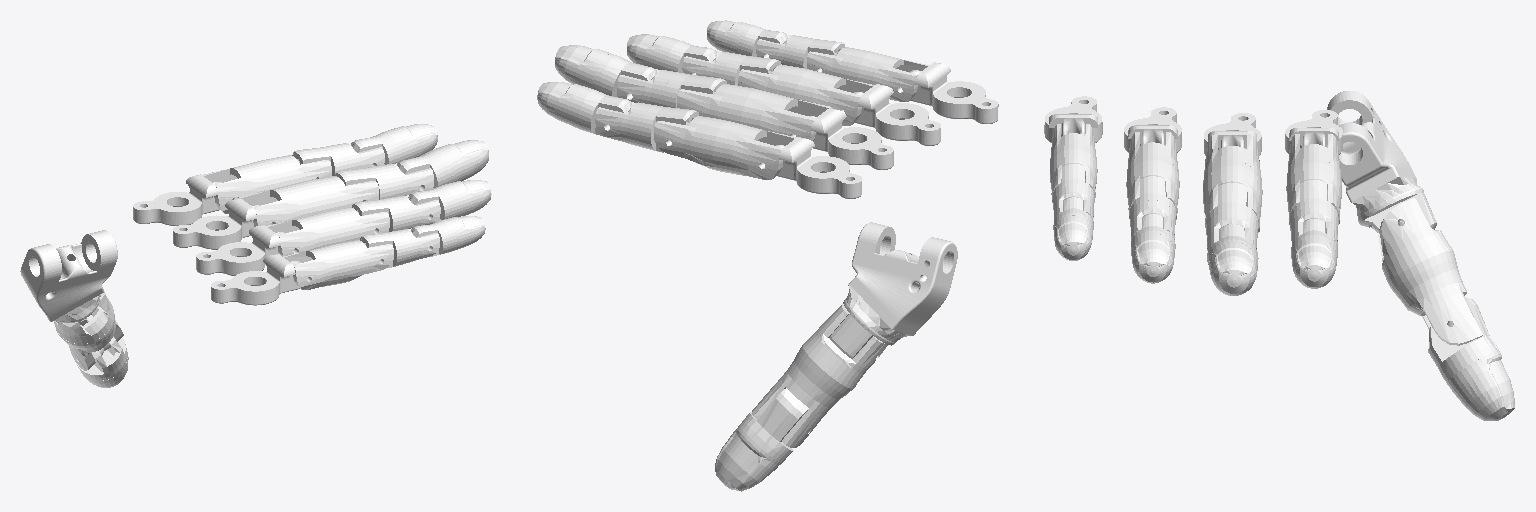
URDF robot description (hek):
<?xml version="1.0"?>
<robot name="hek">

  <link name="world"/>




  <link name="r_palm">
    <visual>
      <origin xyz="0 0 0" rpy="0 0 0"/>
      <geometry>
        <mesh filename="package://cs2r_desc/stl/r_palm.STL"
              scale="0.001 0.001 0.001"
        />
      </geometry>
      <material name="white">
        <color rgba="1 1 1 1"/>
      </material>
    </visual>
  </link>

  <joint name="r_wrist_z" type="revolute">
    <origin xyz="0 0 0" rpy="0 0 0"/>
    <parent link="world"/>
    <child link="r_palm"/>
    <axis xyz="0 0 1"/>
    <limit effort="100" velocity="1.0" lower="-0.65" upper="0.65" />
  </joint>

  <link name="r_thumb_joint">
    <visual>
      <origin xyz="0 0 0" rpy="0 0 0"/>
      <geometry>
        <mesh filename="package://cs2r_desc/stl/r_thumb_joint.STL"
              scale="0.001 0.001 0.001"
        />
      </geometry>
      <material name="white">
        <color rgba="1 1 1 1"/>
      </material>
    </visual>
  </link>

  <joint name="r_thumb_joint_x" type="revolute">
    <origin xyz="0.0417 0.0291 -0.0057" rpy="0 0 0"/>
    <parent link="r_palm"/>
    <child link="r_thumb_joint"/>
    <axis xyz="-1 0 0"/>
    <limit effort="100" velocity="1.0" lower="0.1" upper="2" />
  </joint>

  <link name="r_thumb1">
    <visual>
      <origin xyz="0 0 0" rpy="0 0 0"/>
      <geometry>
        <mesh filename="package://cs2r_desc/stl/Thumb1.STL"
              scale="0.001 0.001 0.001"
        />
      </geometry>
      <material name="white">
        <color rgba="1 1 1 1"/>
      </material>
    </visual>
  </link>

  <joint name="r_thumb" type="revolute">
    <origin xyz="0.0068 0.019 0" rpy="-0.3 0.0 1.06"/>
    <parent link="r_thumb_joint"/>
    <child link="r_thumb1"/>
    <axis xyz="0 1 0"/>
    <limit effort="100" velocity="1.0" lower="0" upper="1.4" />
  </joint>

  <link name="r_thumb2">
    <visual>
      <origin xyz="0 0 0" rpy="0 0 0"/>
      <geometry>
        <mesh filename="package://cs2r_desc/stl/Thumb2.STL"
              scale="0.001 0.001 0.001"
        />
      </geometry>
      <material name="white">
        <color rgba="1 1 1 1"/>
      </material>
    </visual>
  </link>

  <joint name="r_thumb1_2" type="revolute">
    <origin xyz="0.021 0 0" rpy="0 0 0"/>
    <parent link="r_thumb1"/>
    <child link="r_thumb2"/>
    <axis xyz="0 1 0"/>
    <mimic joint="r_thumb" multiplier="1"/>
    <limit effort="100" velocity="1.0" lower="0" upper="1.4" />
  </joint>

  <link name="r_index_finger_joint">
    <visual>
      <origin xyz="0 0 0" rpy="0 0 0"/>
      <geometry>
        <mesh filename="package://cs2r_desc/stl/finger_joint.STL"
              scale="0.001 0.001 0.001"
        />
      </geometry>
      <material name="white">
        <color rgba="1 1 1 1"/>
      </material>
    </visual>
  </link>

  <joint name="r_fingers_z" type="revolute">
    <origin xyz="0.06512 0.0225 0.0051" rpy="0 0 0"/>
    <parent link="r_palm"/>
    <child link="r_index_finger_joint"/>
    <axis xyz="0 0 -1"/>
    <limit effort="100" velocity="1.0" lower="-0.25" upper="0.15" />
  </joint>

  <link name="r_index1">
    <visual>
      <origin xyz="0 0 0" rpy="0 0 0"/>
      <geometry>
        <mesh filename="package://cs2r_desc/stl/Index1.STL"
              scale="0.001 0.001 0.001"
        />
      </geometry>
      <material name="white">
        <color rgba="1 1 1 1"/>
      </material>
    </visual>
  </link>

  <joint name="r_index" type="revolute">
    <origin xyz="0.0115 0 -0.0005" rpy="0 0 0"/>
    <parent link="r_index_finger_joint"/>
    <child link="r_index1"/>
    <axis xyz="0 1 0"/>
    <limit effort="100" velocity="1.0" lower="0.0" upper="1.5" />
  </joint>

  <link name="r_index2">
    <visual>
      <origin xyz="0 0 0" rpy="0 0 0"/>
      <geometry>
        <mesh filename="package://cs2r_desc/stl/Index2.STL"
              scale="0.001 0.001 0.001"
        />
      </geometry>
      <material name="white">
        <color rgba="1 1 1 1"/>
      </material>
    </visual>
  </link>

  <joint name="r_index1_2" type="revolute">
    <origin xyz="0.022 0 0" rpy="0 0 0"/>
    <parent link="r_index1"/>
    <child link="r_index2"/>
    <axis xyz="0 1 0"/>
    <mimic joint="r_index" multiplier="1"/>
    <limit effort="100" velocity="1.0" lower="0.0" upper="1.5" />
  </joint>

  <link name="r_index3">
    <visual>
      <origin xyz="0 0 0" rpy="0 0 0"/>
      <geometry>
        <mesh filename="package://cs2r_desc/stl/Index3.STL"
              scale="0.001 0.001 0.001"
        />
      </geometry>
      <material name="white">
        <color rgba="1 1 1 1"/>
      </material>
    </visual>
  </link>

  <joint name="r_index2_3" type="revolute">
    <origin xyz="0.0146 0 0" rpy="0 0 0"/>
    <parent link="r_index2"/>
    <child link="r_index3"/>
    <axis xyz="0 1 0"/>
    <mimic joint="r_index" multiplier="1"/>
    <limit effort="100" velocity="1.0" lower="0.0" upper="1.5" />
  </joint>

  <link name="r_middle_finger_joint">
    <visual>
      <origin xyz="0 0 0" rpy="0 0 0"/>
      <geometry>
        <mesh filename="package://cs2r_desc/stl/finger_joint.STL"
              scale="0.001 0.001 0.001"
        />
      </geometry>
      <material name="white">
        <color rgba="1 1 1 1"/>
      </material>
    </visual>
  </link>

  <joint name="r_midlle_z" type="fixed">
    <origin xyz="0.0665 0.00733 0.0051" rpy="0 0 0"/>
    <parent link="r_palm"/>
    <child link="r_middle_finger_joint"/>
  </joint>






  <link name="r_middle1">
    <visual>
      <origin xyz="0 0 0" rpy="0 0 0"/>
      <geometry>
        <mesh filename="package://cs2r_desc/stl/Majeure1.STL"
              scale="0.001 0.001 0.001"
        />
      </geometry>
      <material name="white">
        <color rgba="1 1 1 1"/>
      </material>
    </visual>
  </link>

  <joint name="r_middle" type="revolute">
    <origin xyz="0.0115 0 -0.0005" rpy="0 0 0"/>
    <parent link="r_middle_finger_joint"/>
    <child link="r_middle1"/>
    <axis xyz="0 1 0"/>
    <limit effort="100" velocity="1.0" lower="0.0" upper="1.5" />
  </joint>

  <link name="r_middle2">
    <visual>
      <origin xyz="0 0 0" rpy="0 0 0"/>
      <geometry>
        <mesh filename="package://cs2r_desc/stl/Majeure2.STL"
              scale="0.001 0.001 0.001"
        />
      </geometry>
      <material name="white">
        <color rgba="1 1 1 1"/>
      </material>
    </visual>
  </link>

  <joint name="r_middle1_2" type="revolute">
    <origin xyz="0.023 0 0" rpy="0 0 0"/>
    <parent link="r_middle1"/>
    <child link="r_middle2"/>
    <axis xyz="0 1 0"/>
    <mimic joint="r_middle" multiplier="1"/>
    <limit effort="100" velocity="1.0" lower="0.0" upper="1.5" />
  </joint>

  <link name="r_middle3">
    <visual>
      <origin xyz="0 0 0" rpy="0 0 0"/>
      <geometry>
        <mesh filename="package://cs2r_desc/stl/Majeure3.STL"
              scale="0.001 0.001 0.001"
        />
      </geometry>
      <material name="white">
        <color rgba="1 1 1 1"/>
      </material>
    </visual>
  </link>

  <joint name="r_middle2_3" type="revolute">
    <origin xyz="0.0155 0 0" rpy="0 0 0"/>
    <parent link="r_middle2"/>
    <child link="r_middle3"/>
    <axis xyz="0 1 0"/>
    <mimic joint="r_middle" multiplier="1"/>
    <limit effort="100" velocity="1.0" lower="0.0" upper="1.5" />
  </joint>



  <link name="r_ring_finger_joint">
    <visual>
      <origin xyz="0 0 0" rpy="0 0 0"/>
      <geometry>
        <mesh filename="package://cs2r_desc/stl/finger_joint.STL"
              scale="0.001 0.001 0.001"
        />
      </geometry>
      <material name="white">
        <color rgba="1 1 1 1"/>
      </material>
    </visual>
  </link>

  <joint name="r_ring_z" type="revolute">
    <origin xyz="0.064 -0.00747 0.0051" rpy="0 0 0"/>
    <parent link="r_palm"/>
    <child link="r_ring_finger_joint"/>
    <axis xyz="0 0 -1"/>
    <mimic joint="r_fingers_z" multiplier="-1"/>
    <limit effort="100" velocity="1.0" lower="-0.4" upper="0.2" />
  </joint>



    <link name="r_ring1">
    <visual>
      <origin xyz="0 0 0" rpy="0 0 0"/>
      <geometry>
        <mesh filename="package://cs2r_desc/stl/RingFinger1.STL"
              scale="0.001 0.001 0.001"
        />
      </geometry>
      <material name="white">
        <color rgba="1 1 1 1"/>
      </material>
    </visual>
  </link>

  <joint name="r_ring" type="revolute">
    <origin xyz="0.0115 0 -0.0005" rpy="0 0 0"/>
    <parent link="r_ring_finger_joint"/>
    <child link="r_ring1"/>
    <axis xyz="0 1 0"/>
    <limit effort="100" velocity="1.0" lower="0.0" upper="1.5" />
  </joint>

  <link name="r_ring2">
    <visual>
      <origin xyz="0 0 0" rpy="0 0 0"/>
      <geometry>
        <mesh filename="package://cs2r_desc/stl/RingFinger2.STL"
              scale="0.001 0.001 0.001"
        />
      </geometry>
      <material name="white">
        <color rgba="1 1 1 1"/>
      </material>
    </visual>
  </link>

  <joint name="r_ring1_2" type="revolute">
    <origin xyz="0.021 0 0" rpy="0 0 0"/>
    <parent link="r_ring1"/>
    <child link="r_ring2"/>
    <axis xyz="0 1 0"/>
    <mimic joint="r_ring" multiplier="1"/>
    <limit effort="100" velocity="1.0" lower="0.0" upper="1.5" />
  </joint>

  <link name="r_ring3">
    <visual>
      <origin xyz="0 0 0" rpy="0 0 0"/>
      <geometry>
        <mesh filename="package://cs2r_desc/stl/RingFinger3.STL"
              scale="0.001 0.001 0.001"
        />
      </geometry>
      <material name="white">
        <color rgba="1 1 1 1"/>
      </material>
    </visual>
  </link>

  <joint name="r_ring2_3" type="revolute">
    <origin xyz="0.014 0 0" rpy="0 0 0"/>
    <parent link="r_ring2"/>
    <child link="r_ring3"/>
    <axis xyz="0 1 0"/>
    <mimic joint="r_ring" multiplier="1"/>
    <limit effort="100" velocity="1.0" lower="0.0" upper="1.5" />
  </joint>




  <link name="r_auri_finger_joint">
    <visual>
      <origin xyz="0 0 0" rpy="0 0 0"/>
      <geometry>
        <mesh filename="package://cs2r_desc/stl/finger_joint.STL"
              scale="0.001 0.001 0.001"
        />
      </geometry>
      <material name="white">
        <color rgba="1 1 1 1"/>
      </material>
    </visual>
  </link>

  <joint name="r_auri_z" type="revolute">
    <origin xyz="0.05918 -0.02225 0.0051" rpy="0 0 0"/>
    <parent link="r_palm"/>
    <child link="r_auri_finger_joint"/>
    <axis xyz="0 0 -1"/>
    <mimic joint="r_fingers_z" multiplier="-1.5"/>
    <limit effort="100" velocity="1.0" lower="-0.4" upper="0.2" />
  </joint>


  <link name="r_auri1">
    <visual>
      <origin xyz="0 0 0" rpy="0 0 0"/>
      <geometry>
        <mesh filename="package://cs2r_desc/stl/Auriculaire1.STL"
              scale="0.001 0.001 0.001"
        />
      </geometry>
      <material name="white">
        <color rgba="1 1 1 1"/>
      </material>
    </visual>
  </link>

  <joint name="r_auri" type="revolute">
    <origin xyz="0.0115 0 -0.0005" rpy="0 0 0"/>
    <parent link="r_auri_finger_joint"/>
    <child link="r_auri1"/>
    <axis xyz="0 1 0"/>
    <limit effort="100" velocity="1.0" lower="0.0" upper="1.5" />
  </joint>

  <link name="r_auri2">
    <visual>
      <origin xyz="0 0 0" rpy="0 0 0"/>
      <geometry>
        <mesh filename="package://cs2r_desc/stl/Auriculaire2.STL"
              scale="0.001 0.001 0.001"
        />
      </geometry>
      <material name="white">
        <color rgba="1 1 1 1"/>
      </material>
    </visual>
  </link>

  <joint name="r_auri1_2" type="revolute">
    <origin xyz="0.019 0 0" rpy="0 0 0"/>
    <parent link="r_auri1"/>
    <child link="r_auri2"/>
    <axis xyz="0 1 0"/>
    <mimic joint="r_auri" multiplier="1"/>
    <limit effort="100" velocity="1.0" lower="0.0" upper="1.5" />
  </joint>

  <link name="r_auri3">
    <visual>
      <origin xyz="0 0 0" rpy="0 0 0"/>
      <geometry>
        <mesh filename="package://cs2r_desc/stl/Auriculaire3.STL"
              scale="0.001 0.001 0.001"
        />
      </geometry>
      <material name="white">
        <color rgba="1 1 1 1"/>
      </material>
    </visual>
  </link>

  <joint name="r_auri2_3" type="revolute">
    <origin xyz="0.0125 0 0" rpy="0 0 0"/>
    <parent link="r_auri2"/>
    <child link="r_auri3"/>
    <axis xyz="0 1 0"/>
    <mimic joint="r_auri" multiplier="1"/>
    <limit effort="100" velocity="1.0" lower="0.0" upper="1.5" />
  </joint>








</robot>

--- Render facts (derived) ---
3 views of the same robot in one strip: view 1: azimuth 30°, elevation 25°; view 2: azimuth 150°, elevation 25°; view 3: azimuth 270°, elevation 25° (orthographic).
Model hek with 21 links and 20 joints (19 revolute, 1 fixed), rooted at world, posed joints at zero except 1 at the middle of their limits (r_thumb_joint_x = 1.05).
Links seen in each view (by area): view 1: r_thumb_joint, r_middle1, r_auri1, r_ring1, r_index1, r_auri_finger_joint, r_index_finger_joint, r_middle_finger_joint, r_middle3, r_ring_finger_joint, r_thumb1, r_index3 (+7 smaller); view 2: r_thumb_joint, r_thumb1, r_index1, r_thumb2, r_middle1, r_ring1, r_auri1, r_auri_finger_joint, r_ring_finger_joint, r_index_finger_joint, r_middle_finger_joint, r_middle3 (+7 smaller); view 3: r_thumb1, r_thumb_joint, r_thumb2, r_middle1, r_index1, r_middle3, r_ring1, r_index3, r_ring3, r_middle2, r_auri1, r_auri3 (+7 smaller).
Boxes of the visible links, x1,y1,x2,y2 form: r_thumb_joint: (20, 230, 117, 322); r_middle1: (238, 176, 378, 226); r_auri1: (283, 240, 393, 289); r_ring1: (266, 207, 389, 256); r_index1: (203, 154, 331, 213); r_auri_finger_joint: (211, 254, 300, 305); r_index_finger_joint: (133, 174, 221, 225); r_middle_finger_joint: (173, 198, 259, 249); r_middle3: (397, 140, 488, 188); r_ring_finger_joint: (196, 225, 285, 275); r_thumb1: (54, 292, 123, 370); r_index3: (351, 124, 437, 164); r_thumb_joint: (830, 222, 957, 358); r_thumb1: (752, 304, 887, 447); r_index1: (654, 116, 796, 179); r_thumb2: (715, 388, 808, 491); r_middle1: (677, 84, 831, 140); r_ring1: (738, 64, 874, 125); r_auri1: (807, 47, 928, 101); r_auri_finger_joint: (909, 62, 998, 123); r_ring_finger_joint: (854, 84, 940, 145); r_index_finger_joint: (776, 137, 861, 198); r_middle_finger_joint: (809, 108, 893, 169); r_middle3: (555, 45, 657, 97); r_thumb1: (1378, 198, 1482, 345); r_thumb_joint: (1327, 91, 1436, 233); r_thumb2: (1428, 297, 1514, 420); r_middle1: (1203, 134, 1262, 232); r_index1: (1286, 134, 1341, 224); r_middle3: (1208, 224, 1258, 295); r_ring1: (1126, 132, 1179, 219); r_index3: (1291, 218, 1337, 288); r_ring3: (1131, 213, 1175, 283); r_middle2: (1206, 181, 1258, 264); r_auri1: (1050, 124, 1097, 202); r_auri3: (1053, 196, 1093, 260).
Bounding box of the posed robot: 0.1038 × 0.0876 × 0.0642 m (x, y, z).
19 mesh visuals loaded from 17 distinct referenced files (16 binary STL); not drawn: 1 (reference not matched to a file when rendering).
